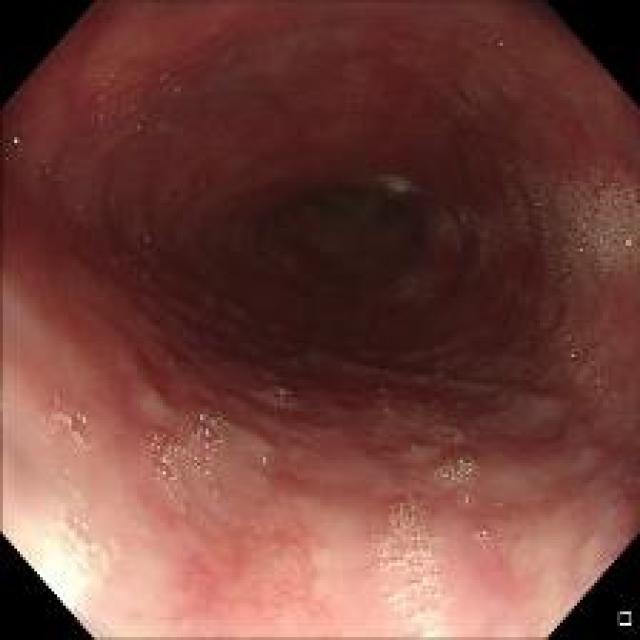bubbles: (488, 164, 634, 289), (375, 498, 461, 638), (141, 401, 226, 508), (422, 201, 536, 264), (402, 416, 489, 498), (39, 394, 104, 456), (551, 296, 595, 376), (264, 378, 304, 410), (32, 152, 64, 189), (128, 222, 160, 255), (581, 366, 608, 402), (89, 101, 118, 132), (460, 81, 489, 106), (126, 118, 152, 145), (469, 524, 496, 545), (255, 450, 274, 469)
color misalignment: (195, 410, 211, 455), (5, 136, 20, 155)
contrast: (239, 168, 469, 344)
saturation: (10, 511, 106, 610), (385, 571, 456, 638)
specularity: (74, 428, 86, 444), (75, 411, 88, 424), (624, 235, 630, 250)
